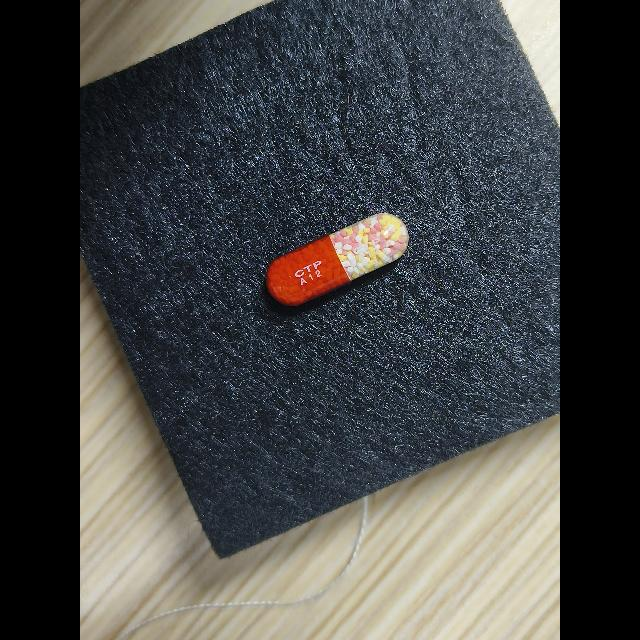Intact Capsule: (266, 213, 409, 306)
